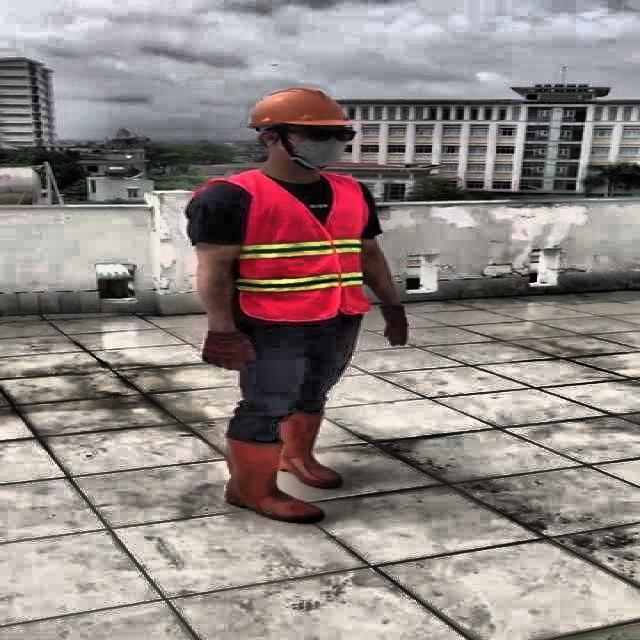safety_helmet: (246, 86, 353, 132)
safety_jacket: (232, 169, 374, 320)
